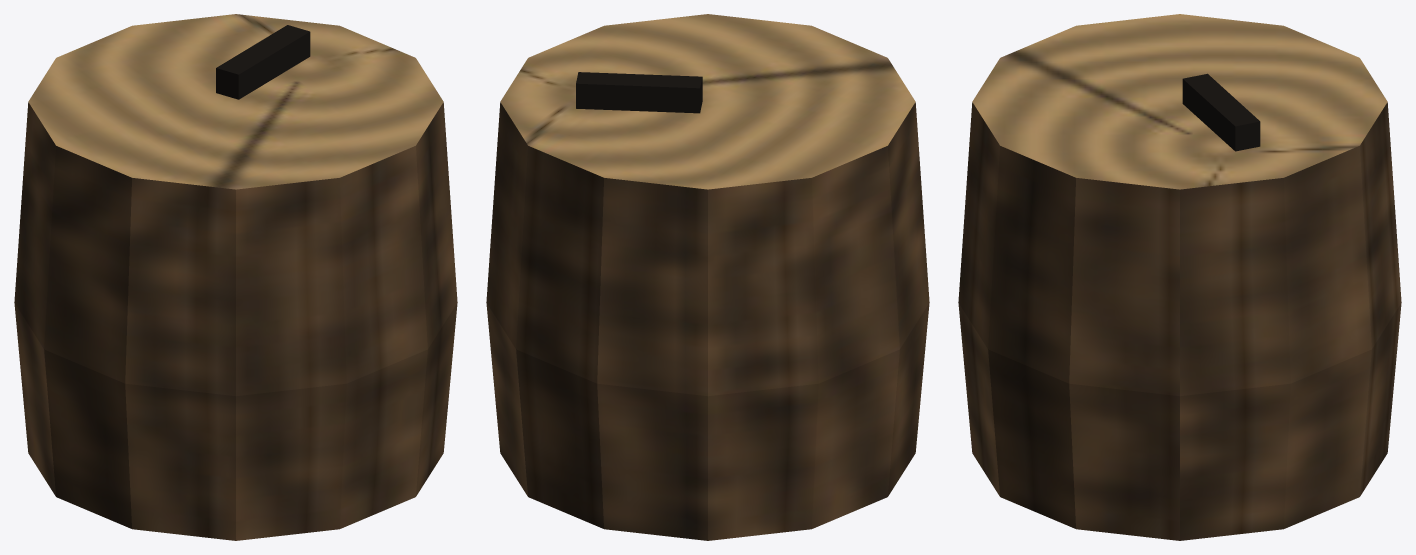
Rendered from prop_hakblok.glb.
3 renders of one model, left to right at view 1: azimuth 30°, elevation 25°; view 2: azimuth 150°, elevation 25°; view 3: azimuth 270°, elevation 25°, orthographic.
Visible parts, largest first — view 1: prop_hakblok; view 2: prop_hakblok; view 3: prop_hakblok.
Boxes of the visible parts, x1,y1,x2,y2 form: prop_hakblok: [14, 14, 457, 540]; prop_hakblok: [486, 14, 929, 540]; prop_hakblok: [958, 14, 1401, 540].
Bounding box in the file's own units: 0.32 × 0.3 × 0.32.
Materials: 1 (1 with a texture image).
